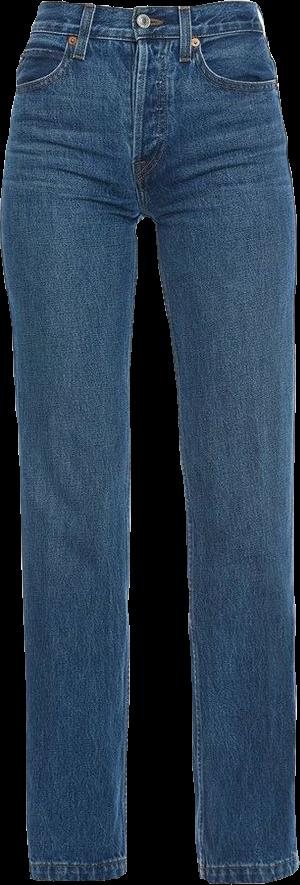Hemline: (199, 864, 299, 884), (27, 868, 123, 884)
Pantleg: (132, 2, 299, 882), (0, 2, 137, 881)
Waistline: (27, 25, 265, 45), (37, 0, 251, 17)
